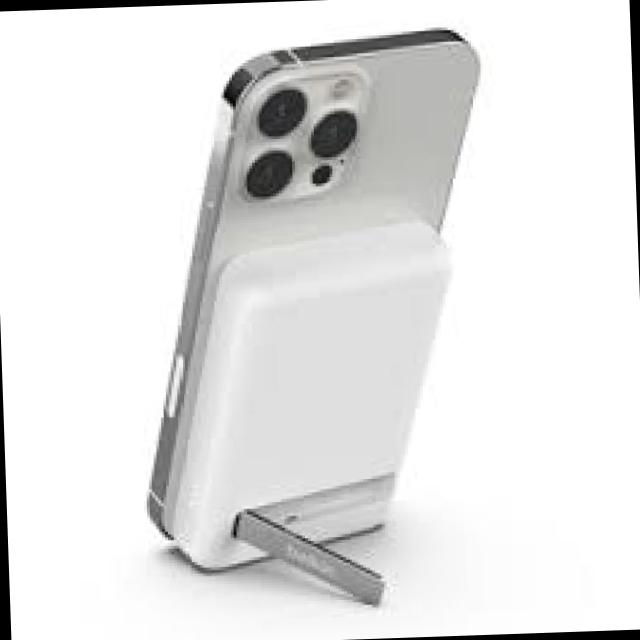portable-charger: (165, 222, 468, 608)
